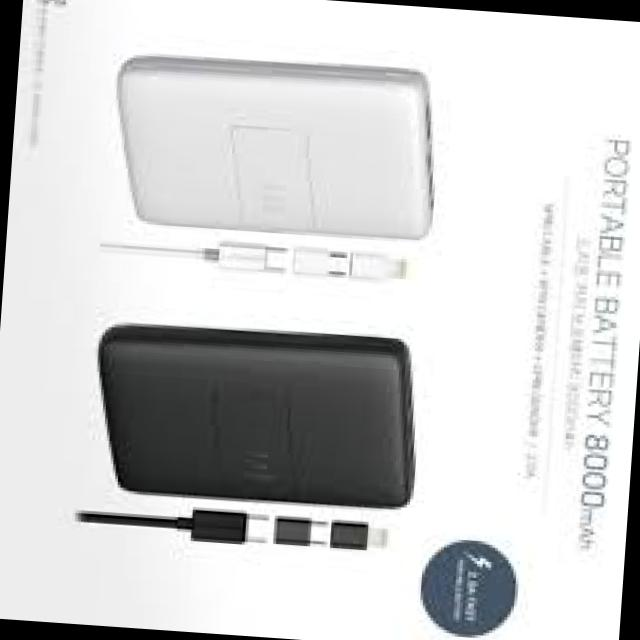power_bank: (80, 312, 428, 522), (106, 45, 443, 253)
